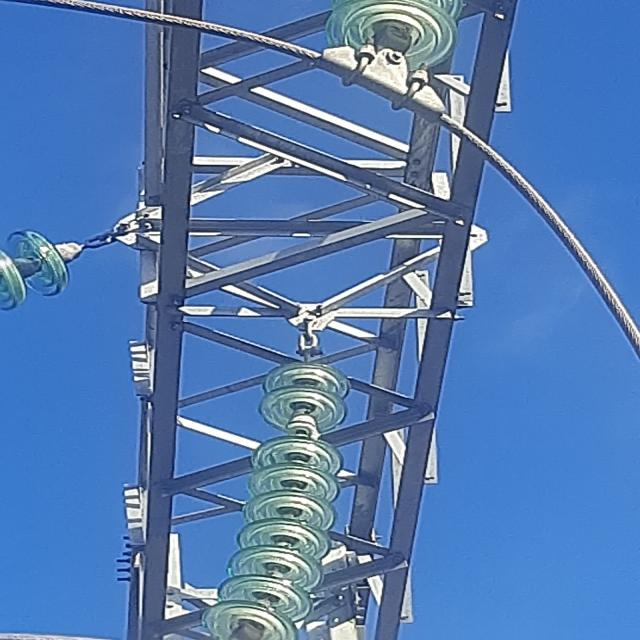杆塔: (126, 0, 506, 640)
正常绝缘子: (205, 320, 354, 640), (1, 201, 113, 329), (318, 0, 453, 73)
绝缘子破损: (283, 412, 319, 436)
